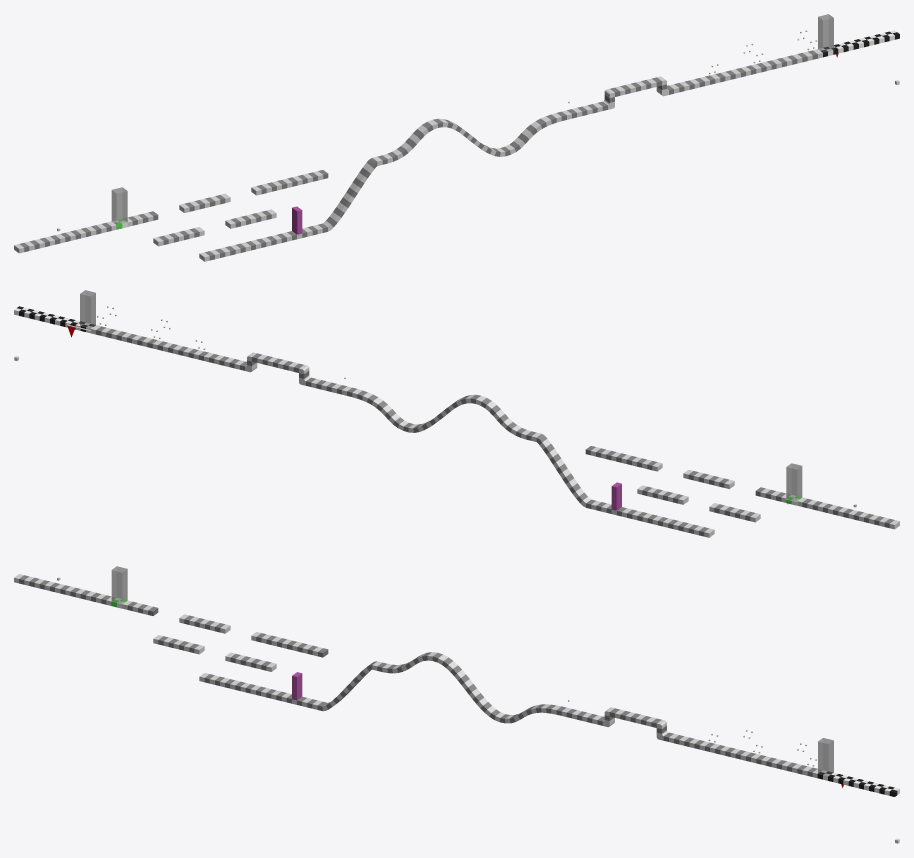
The picture shows the model from 3 angles, top to bottom: view 1: azimuth 30°, elevation 25°; view 2: azimuth 150°, elevation 25°; view 3: azimuth 330°, elevation 25°; orthographic projection.
Parts seen in each view (by area): view 1: Floor, Finish_Floor, Checkpoint, Finish; view 2: Floor, Finish_Floor, Checkpoint, Finish; view 3: Floor, Finish_Floor, Checkpoint, Finish.
Boxes of the visible parts, x1,y1,x2,y2 form: Floor: [14, 49, 822, 261]; Finish_Floor: [818, 30, 899, 57]; Checkpoint: [111, 187, 127, 224]; Finish: [818, 14, 833, 52]; Floor: [91, 325, 899, 537]; Finish_Floor: [14, 306, 95, 333]; Checkpoint: [786, 463, 802, 500]; Finish: [80, 290, 95, 328]; Floor: [14, 574, 821, 778]; Finish_Floor: [817, 770, 899, 796]; Checkpoint: [111, 566, 127, 603]; Finish: [818, 738, 833, 776].
Size of what is drawn, in the model's own units: 172 by 16.83 by 1.93.
5 materials, 1 textured.
